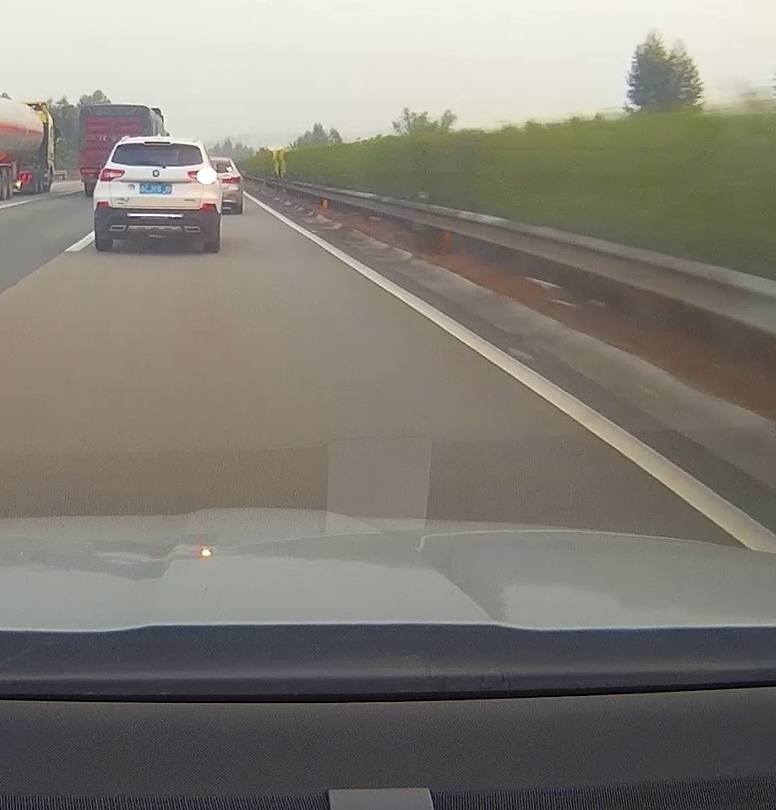L_light: (99, 169, 126, 182)
R_light: (187, 168, 217, 184)
T_light: (144, 140, 172, 146)
day-right: (93, 135, 221, 253)
